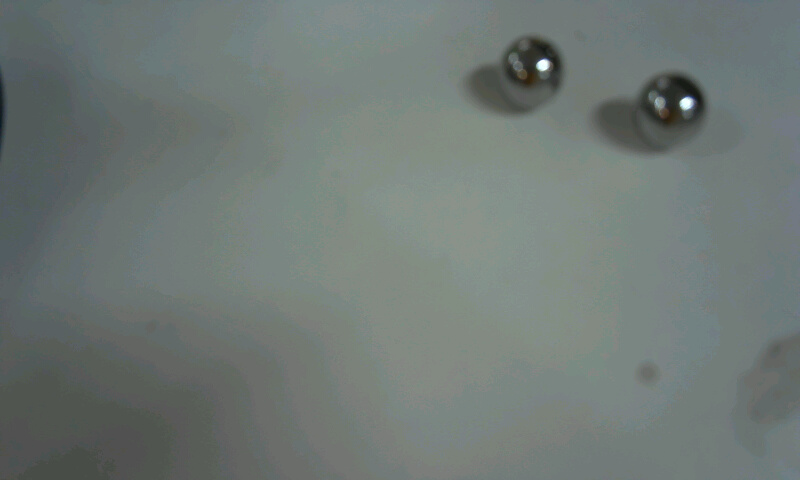steelball: (627, 59, 720, 165), (487, 28, 577, 121)
